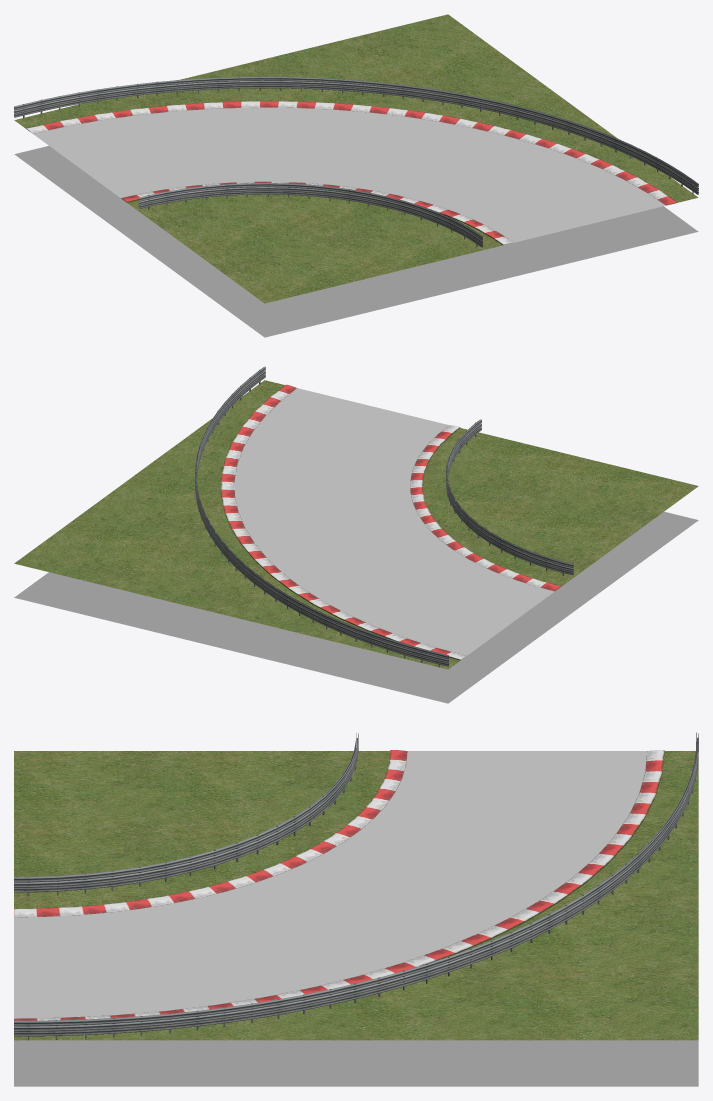
File: Track_Curve_A_Flipped.fbx
3 renders of one model, top to bottom at view 1: azimuth 30°, elevation 25°; view 2: azimuth 150°, elevation 25°; view 3: azimuth 270°, elevation 25°, orthographic. The views are drawn at different scales.
Visible parts, largest first — view 1: Grass, Road, Snap_Plane_Invisible, Rail_A, Curb_A, Rail_B, Curb_B; view 2: Grass, Road, Snap_Plane_Invisible, Curb_A, Rail_A, Curb_B, Rail_B; view 3: Grass, Road, Snap_Plane_Invisible, Rail_A, Curb_A, Rail_B, Curb_B.
Part boxes in pixels (bbox=[...]): Grass: bbox=[14, 14, 698, 303]; Road: bbox=[33, 107, 665, 242]; Snap_Plane_Invisible: bbox=[14, 146, 698, 337]; Rail_A: bbox=[14, 76, 698, 194]; Curb_A: bbox=[26, 101, 677, 205]; Rail_B: bbox=[138, 182, 482, 247]; Curb_B: bbox=[121, 181, 513, 245]; Grass: bbox=[14, 380, 698, 669]; Road: bbox=[234, 388, 554, 655]; Snap_Plane_Invisible: bbox=[14, 511, 698, 703]; Curb_A: bbox=[221, 384, 466, 660]; Rail_A: bbox=[195, 366, 448, 667]; Curb_B: bbox=[410, 425, 561, 591]; Rail_B: bbox=[446, 419, 573, 575]; Grass: bbox=[14, 751, 698, 1040]; Road: bbox=[14, 751, 647, 1018]; Snap_Plane_Invisible: bbox=[14, 1040, 698, 1086]; Rail_A: bbox=[14, 732, 698, 1040]; Curb_A: bbox=[14, 750, 664, 1020]; Rail_B: bbox=[14, 733, 358, 896]; Curb_B: bbox=[14, 750, 407, 917].
Bounding box in the file's own units: 40.03 × 4.24 × 40.04.
